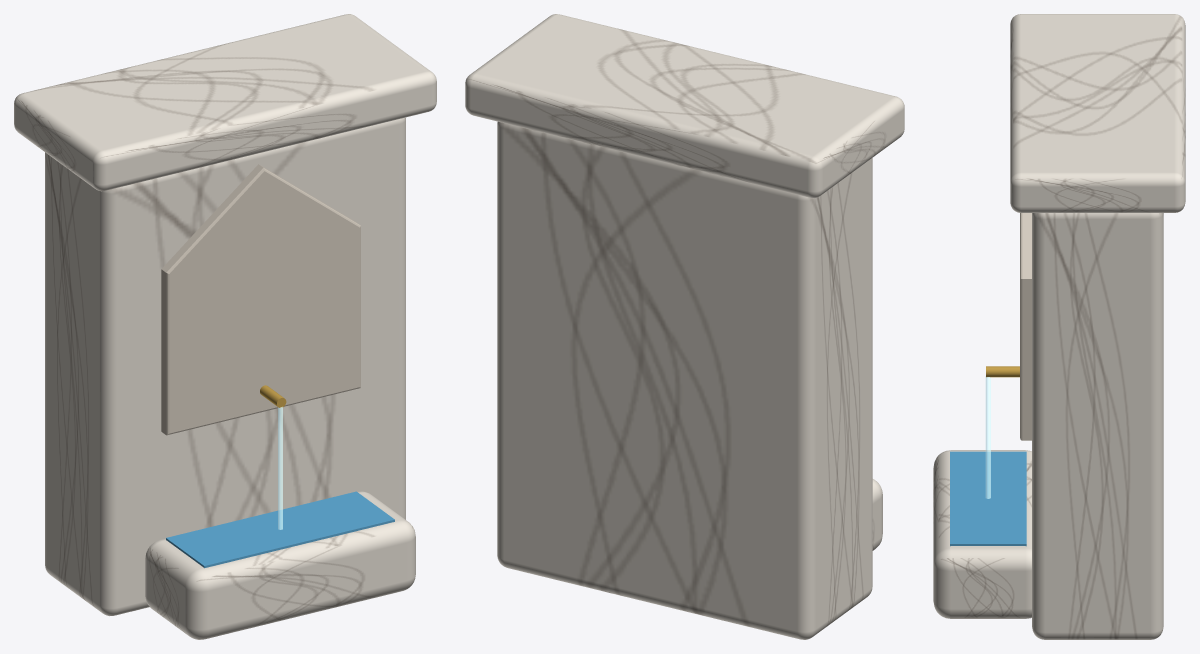
The model's file is cesme.glb.
3 renders of one model, left to right at view 1: azimuth 30°, elevation 25°; view 2: azimuth 150°, elevation 25°; view 3: azimuth 270°, elevation 25°, orthographic. The views are drawn at different scales.
Parts seen in each view (by area): view 1: cesme; view 2: cesme; view 3: cesme.
Boxes of the visible parts, x1,y1,x2,y2 form: cesme: (14, 14, 436, 639); cesme: (465, 14, 904, 639); cesme: (933, 14, 1185, 639).
Size of the model in its own units: 1.8 by 2.4 by 1.15.
5 materials, 1 textured.
